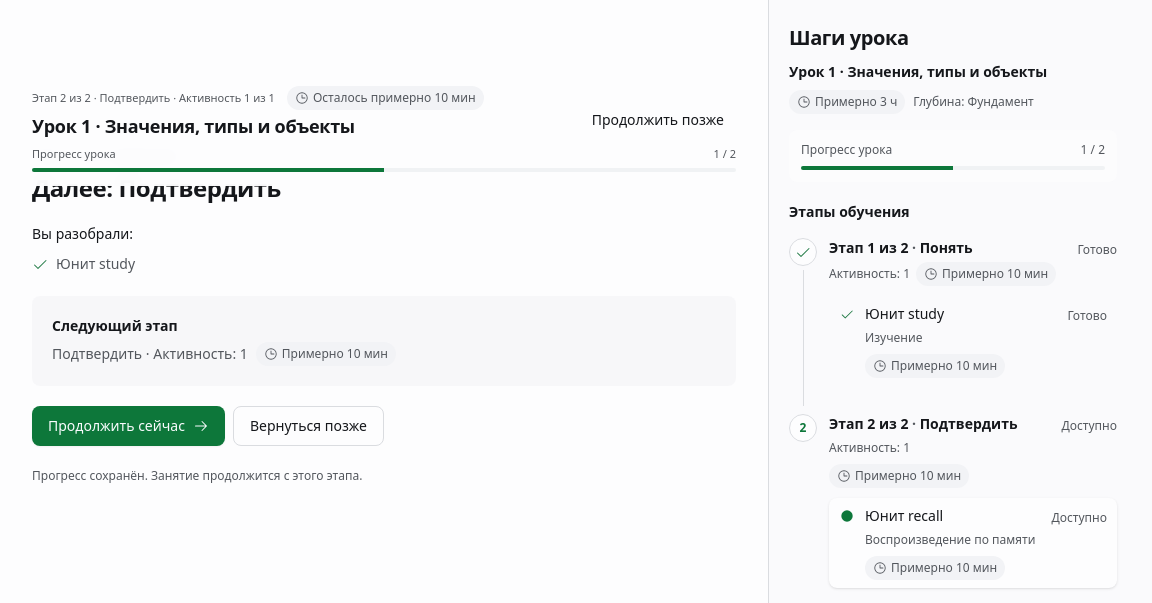
Scenario: guided versioned session › starts the next block from the transition screen
The width and height of the screenshot is (1152, 603).
Click the button "Продолжить сейчас".
click(128, 426)  # box [32,406,225,446]
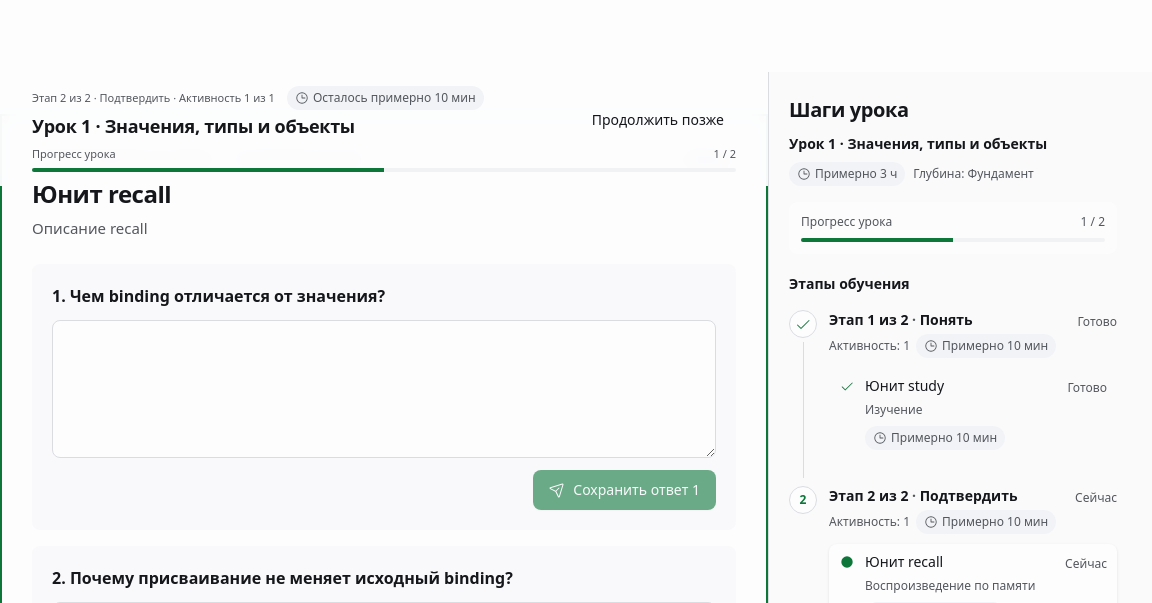
Result: the text "1. Чем binding отличается от значения?" is shown at [52,284,385,308]
